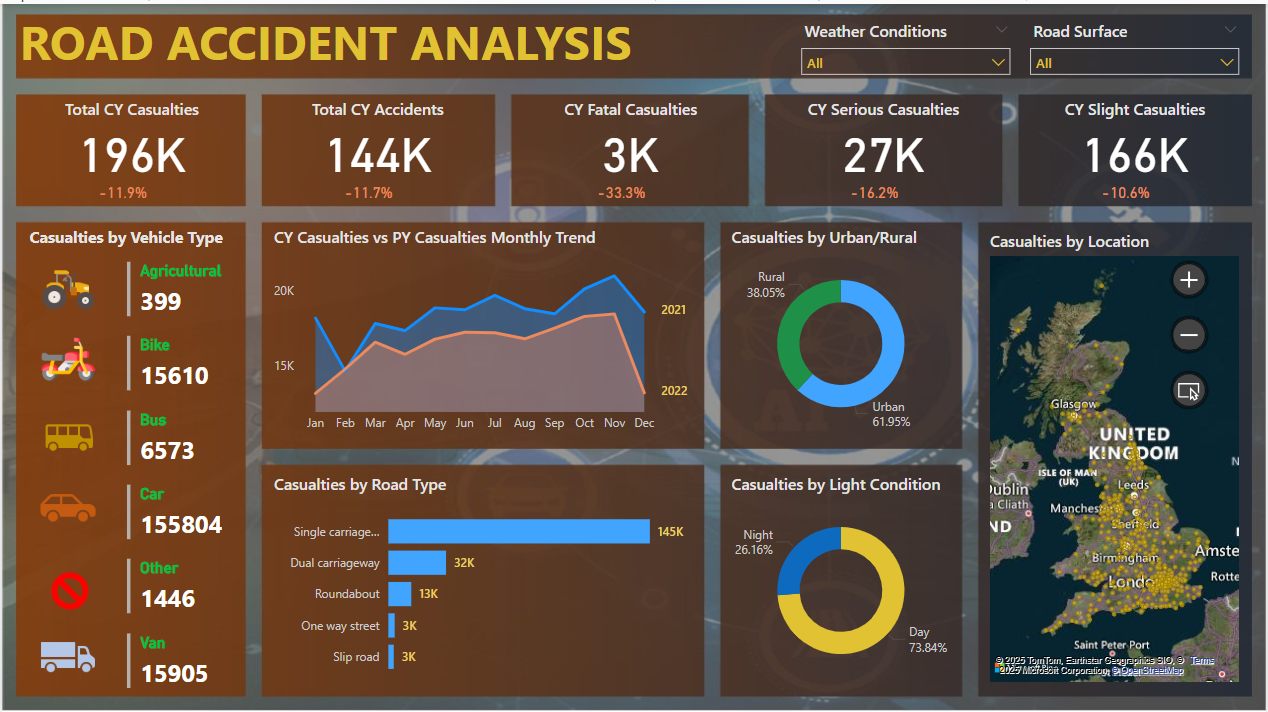

This screenshot's page, from the dashboard's own definition file:
{"tool":"powerbi","page":{"name":"Page 1","canvas":[1280,720],"ordinal":0},"visuals":[{"type":"group","id":"g1","title":"Group 1","box":[20,95.9,223.2,110.2],"z":0},{"type":"card","title":"Total CY Casualties","fields":{"Values":["Data.CY Casualties"]},"box":[20,95.9,223.2,81.6],"z":0,"group":"g1"},{"type":"card","title":"Total CY Accidents","fields":{"Values":["Data.CY Accidents"]},"box":[269.5,95.9,223.2,81.6],"z":0,"group":"g2"},{"type":"card","title":"CY Fatal Casualties","fields":{"Values":["Data.CY Casualties"]},"box":[524.8,95.9,223.2,81.6],"z":0,"group":"g3"},{"type":"card","title":"CY Serious Casualties","fields":{"Values":["Data.CY Casualties"]},"box":[781.3,95.9,223.2,81.6],"z":0,"group":"g4"},{"type":"card","title":"CY Slight Casualties","fields":{"Values":["Data.CY Casualties"]},"box":[1036.1,95.9,223.2,81.6],"z":0,"group":"g5"},{"type":"group","id":"g2","title":"Group 1","box":[269.5,95.9,223.2,110.2],"z":1000},{"type":"card","fields":{"Values":["Data.YoY Casualties"]},"box":[50.1,177.5,144.5,28.6],"z":1000,"group":"g1"},{"type":"card","fields":{"Values":["Data.YoY Accidents"]},"box":[299.6,177.5,144.5,28.6],"z":1000,"group":"g2"},{"type":"card","fields":{"Values":["Data.YoY Casualties"]},"box":[554.9,177.5,144.5,28.6],"z":1000,"group":"g3"},{"type":"card","fields":{"Values":["Data.YoY Casualties"]},"box":[811.4,177.5,144.5,28.6],"z":1000,"group":"g4"},{"type":"card","fields":{"Values":["Data.YoY Casualties"]},"box":[1066.2,177.5,144.5,28.6],"z":1000,"group":"g5"},{"type":"group","id":"g3","title":"Group 1","box":[524.8,95.9,223.2,110.2],"z":2000},{"type":"group","id":"g4","title":"Group 1","box":[781.3,95.9,223.2,110.2],"z":3000},{"type":"group","id":"g5","title":"Group 1","box":[1036.1,95.9,223.2,110.2],"z":4000},{"type":"textbox","box":[13.4,0,721.7,75.2],"z":5000},{"type":"multiRowCard","fields":{"Values":["Data.Vehicle_Type (groups)","Data.CY Casualties"]},"box":[122,255.6,138.5,465.1],"z":6000},{"type":"image","box":[13.2,255.6,108.8,66],"z":7000},{"type":"image","box":[31.3,328.2,70.9,64.3],"z":8000},{"type":"image","box":[31.3,473.3,70.9,74.2],"z":9000},{"type":"image","box":[23.1,626.7,87.4,69.3],"z":10000},{"type":"image","box":[39.6,562.3,57.7,64.3],"z":11000},{"type":"image","box":[16.5,407.3,102.2,62.7],"z":12000},{"type":"textbox","box":[23.1,221,219.3,34.6],"z":13000},{"type":"areaChart","title":"CY Casualties vs PY Casualties Monthly Trend","fields":{"Category":["Calendar.Month"],"Y":["Sum(Data.Number_of_Casualties)"],"Series":["Calendar.Date.Variation.Date Hierarchy.Year"]},"box":[270.5,224.3,432.1,217.7],"z":14000},{"type":"donutChart","title":"Casualties by Urban/Rural","fields":{"Y":["Data.CY Casualties"],"Category":["Data.Urban_or_Rural_Area"]},"box":[734.7,224.6,231.6,217.6],"z":15000},{"type":"donutChart","title":"Casualties by Light Condition","fields":{"Y":["Data.CY Casualties"],"Category":["Data.Light_Conditions (groups)"]},"box":[734,474.8,231.6,217.2],"z":16000},{"type":"barChart","title":"Casualties by Road Type","fields":{"Category":["Data.Road_Type"],"Y":["Data.CY Casualties"]},"box":[270.7,474.8,431.4,217.2],"z":17000},{"type":"map","title":"Casualties by Location","fields":{"X":["Data.Longitude"],"Y":["Data.Latitude"],"Category":["Data.Local_Authority_(District)"]},"box":[996,228.7,262,463.3],"z":18000},{"type":"slicer","fields":{"Values":["Data.Road_Surface_Conditions (groups)"]},"box":[1031.8,11.4,231.8,64.4],"z":19000},{"type":"slicer","fields":{"Values":["Data.Weather_Conditions (groups)"]},"box":[799.9,11.4,231.8,64.4],"z":20000}]}

Visuals, with their boxes in screenshot pixels (x1, y1, x2, y2), scaled from the page's 1280x720 canvas onto the 1268x712 screenshot:
"Group 1" group: box=[20, 95, 241, 204]
"Total CY Casualties" card: box=[20, 95, 241, 176]
"Total CY Accidents" card: box=[267, 95, 488, 176]
"CY Fatal Casualties" card: box=[520, 95, 741, 176]
"CY Serious Casualties" card: box=[774, 95, 995, 176]
"CY Slight Casualties" card: box=[1026, 95, 1247, 176]
"Group 1" group: box=[267, 95, 488, 204]
card - Data.YoY Casualties: box=[50, 176, 193, 204]
card - Data.YoY Accidents: box=[297, 176, 440, 204]
card - Data.YoY Casualties: box=[550, 176, 693, 204]
card - Data.YoY Casualties: box=[804, 176, 947, 204]
card - Data.YoY Casualties: box=[1056, 176, 1199, 204]
"Group 1" group: box=[520, 95, 741, 204]
"Group 1" group: box=[774, 95, 995, 204]
"Group 1" group: box=[1026, 95, 1247, 204]
textbox: box=[13, 0, 728, 74]
multiRowCard - Data.Vehicle_Type (groups) x Data.CY Casualties: box=[121, 253, 258, 711]
image: box=[13, 253, 121, 318]
image: box=[31, 325, 101, 388]
image: box=[31, 468, 101, 541]
image: box=[23, 620, 109, 688]
image: box=[39, 556, 96, 620]
image: box=[16, 403, 118, 465]
textbox: box=[23, 219, 240, 253]
"CY Casualties vs PY Casualties Monthly Trend" areaChart: box=[268, 222, 696, 437]
"Casualties by Urban/Rural" donutChart: box=[728, 222, 957, 437]
"Casualties by Light Condition" donutChart: box=[727, 470, 957, 684]
"Casualties by Road Type" barChart: box=[268, 470, 696, 684]
"Casualties by Location" map: box=[987, 226, 1246, 684]
slicer - Data.Road_Surface_Conditions (groups): box=[1022, 11, 1252, 75]
slicer - Data.Weather_Conditions (groups): box=[792, 11, 1022, 75]
